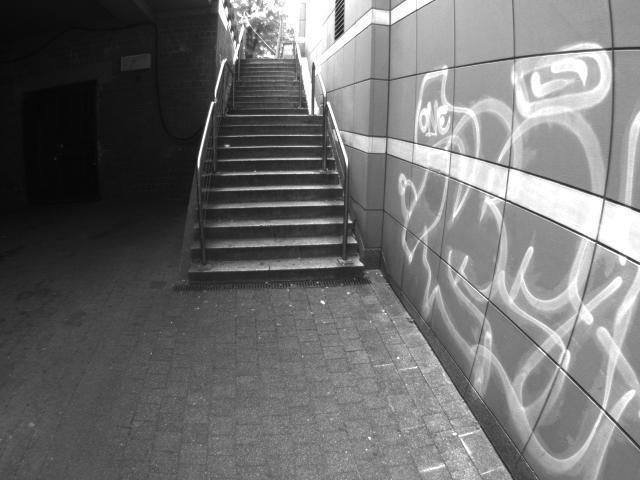Escaleras: (190, 113, 364, 280), (222, 59, 310, 113)
